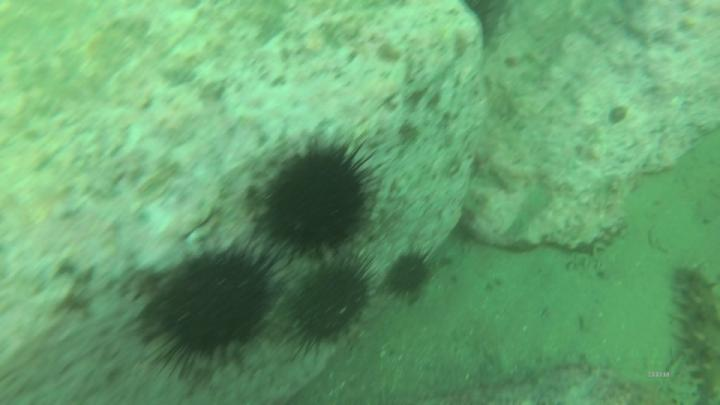echinus: (122, 236, 289, 385), (247, 130, 389, 262), (283, 245, 387, 360), (378, 244, 441, 310)
holothurian: (670, 261, 720, 405)
